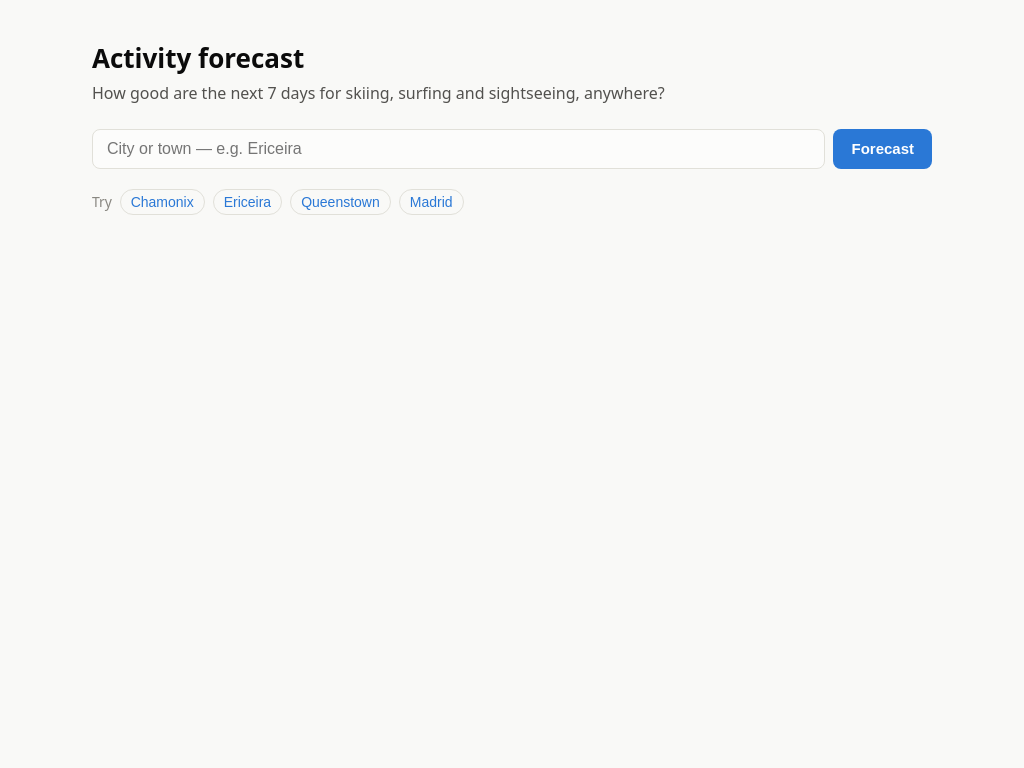
Test: a new search clears the previous breakdown
The image size is (1024, 768).
Type "Ericeira" into the field labelled "City or town". click: (459, 149)
box: [92,129,826,169]
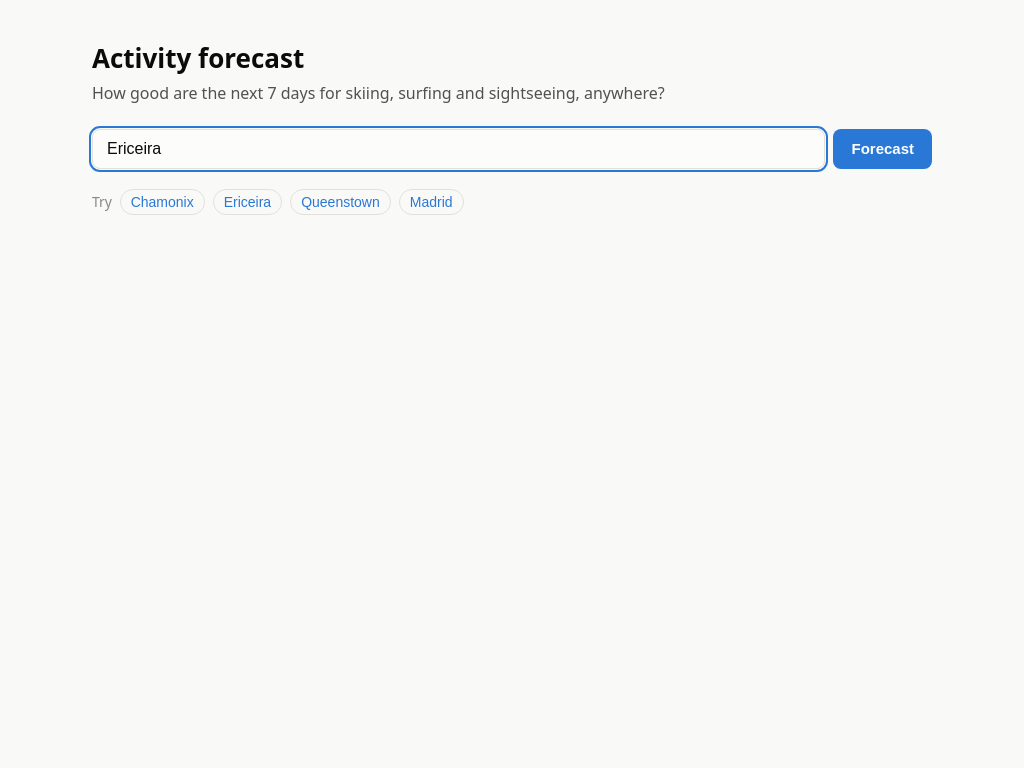
Click the button "Forecast". click: click(883, 149)
box: [834,129,932,169]
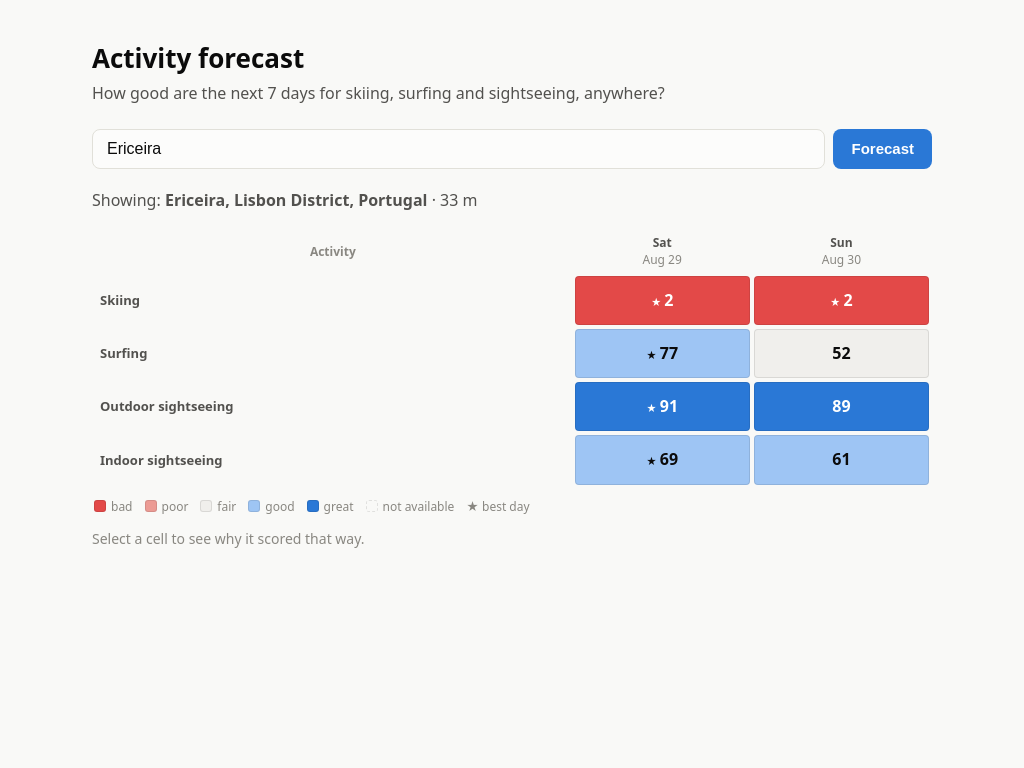
Click the button named "Surfing, 2026-08-29". click: click(662, 354)
box: [575,329,750,378]
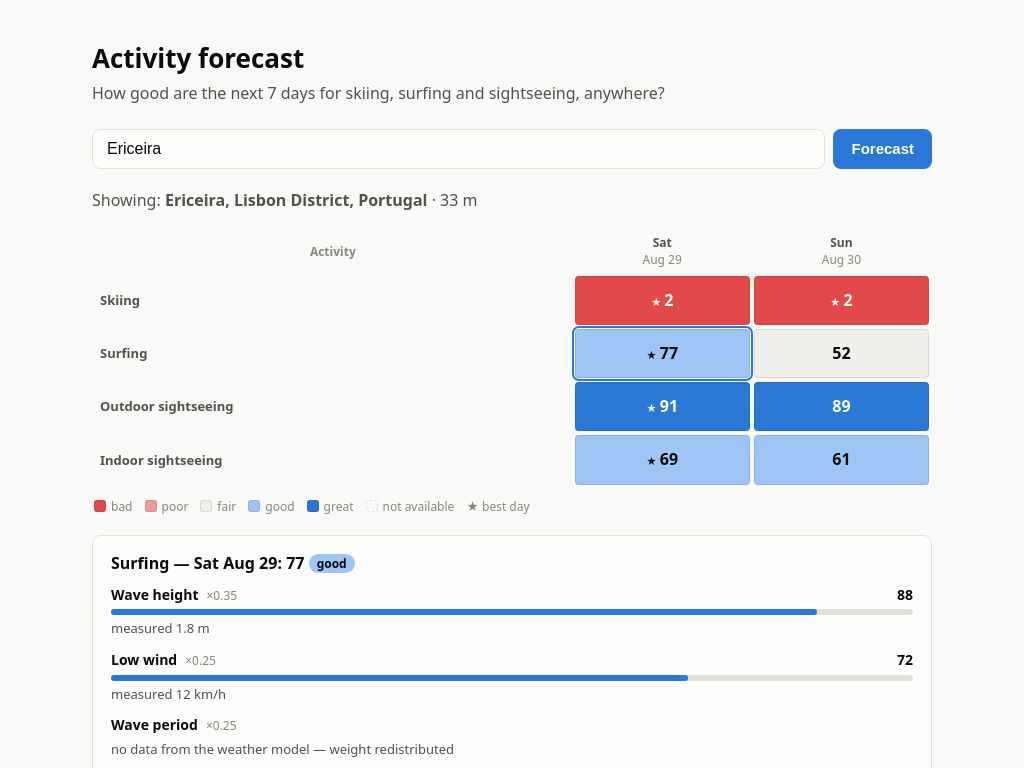
expect the text "Wave height" is shown: met, box [111,585,198,606]
Click the button "Forecast". click: click(883, 149)
box: [834,129,932,169]
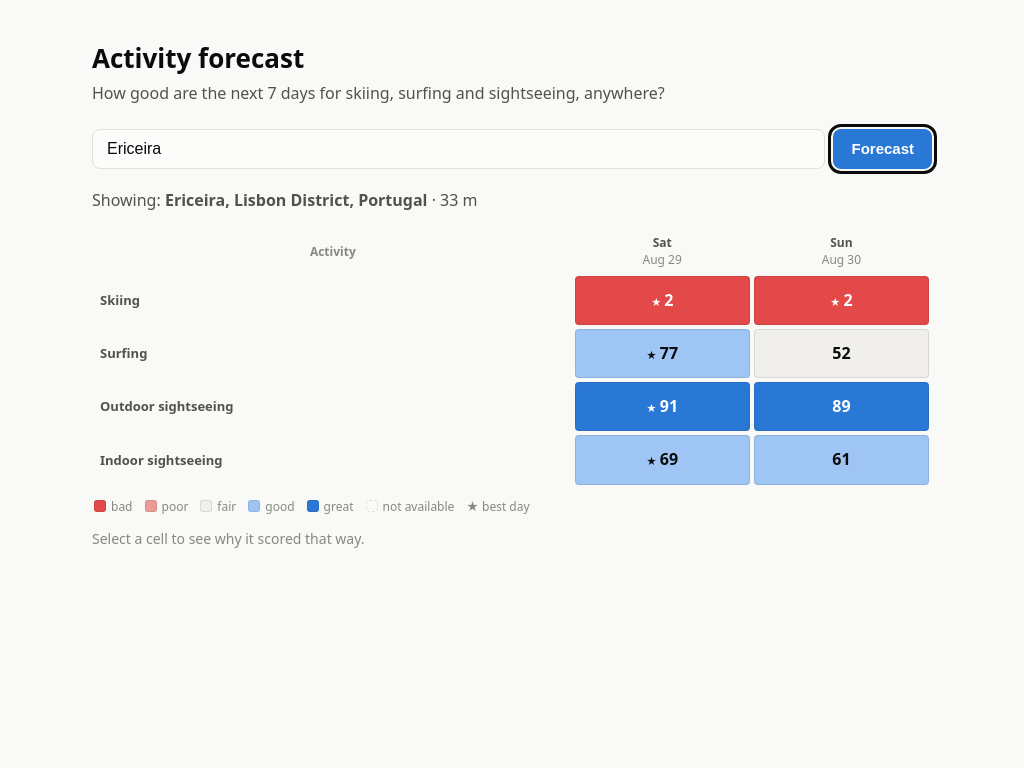
expect the text "Wave height" is gone: met
